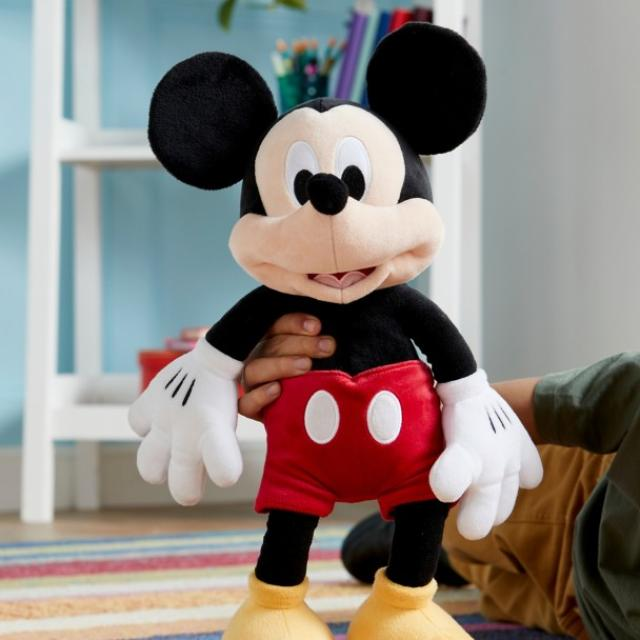mickey: (130, 24, 542, 639)
